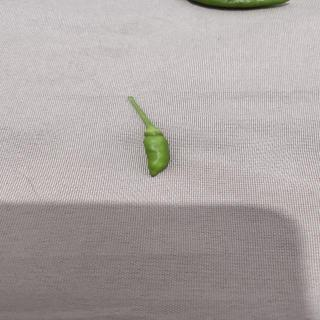Cabai Hijau: (117, 90, 178, 181)
